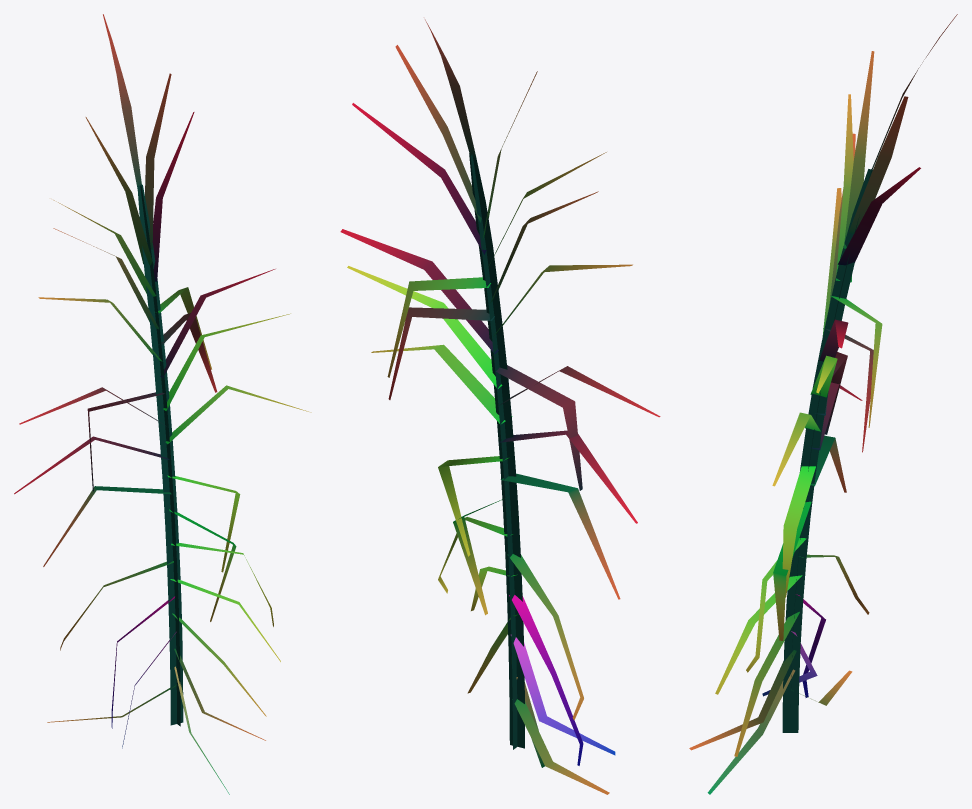
The model's file is Giant_Reed_sjllX_Mid_sjllX_VarE_LOD1.fbx.
3 views of the same model, side by side, from view 1: azimuth 30°, elevation 25°; view 2: azimuth 150°, elevation 25°; view 3: azimuth 270°, elevation 25° (orthographic). The views are drawn at different scales.
Visible parts, largest first — view 1: _48fc_VarE_LOD2; view 2: _48fc_VarE_LOD2; view 3: _48fc_VarE_LOD2.
Part boxes in pixels (x1,y1,x2,y2): _48fc_VarE_LOD2: (14,14,311,794); _48fc_VarE_LOD2: (340,19,660,794); _48fc_VarE_LOD2: (689,14,957,794).
Bounding box in the file's own units: 93.4 × 237 × 74.72.
